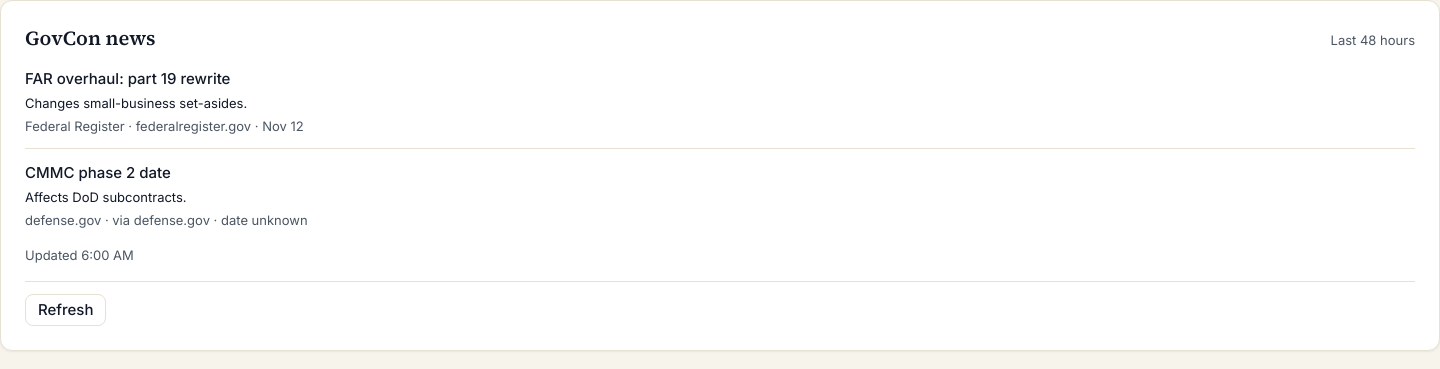
Test: Refresh (owner only) › a fetch that failed is reported with its fixed reason
What coordinates should you click on to do the following:
click the button with test id "news-refresh"
I would click on:
 (66, 310)
Its box is [25,294,106,326].
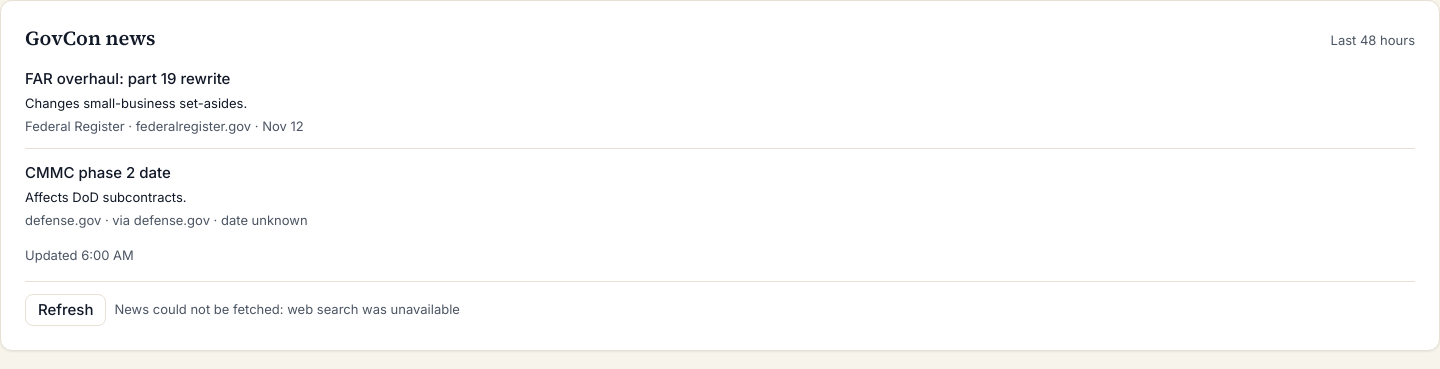
expect the message with test id "news-refresh-note" reads "News could not be fetched: web search was unavailable": met, box [114,301,460,317]
